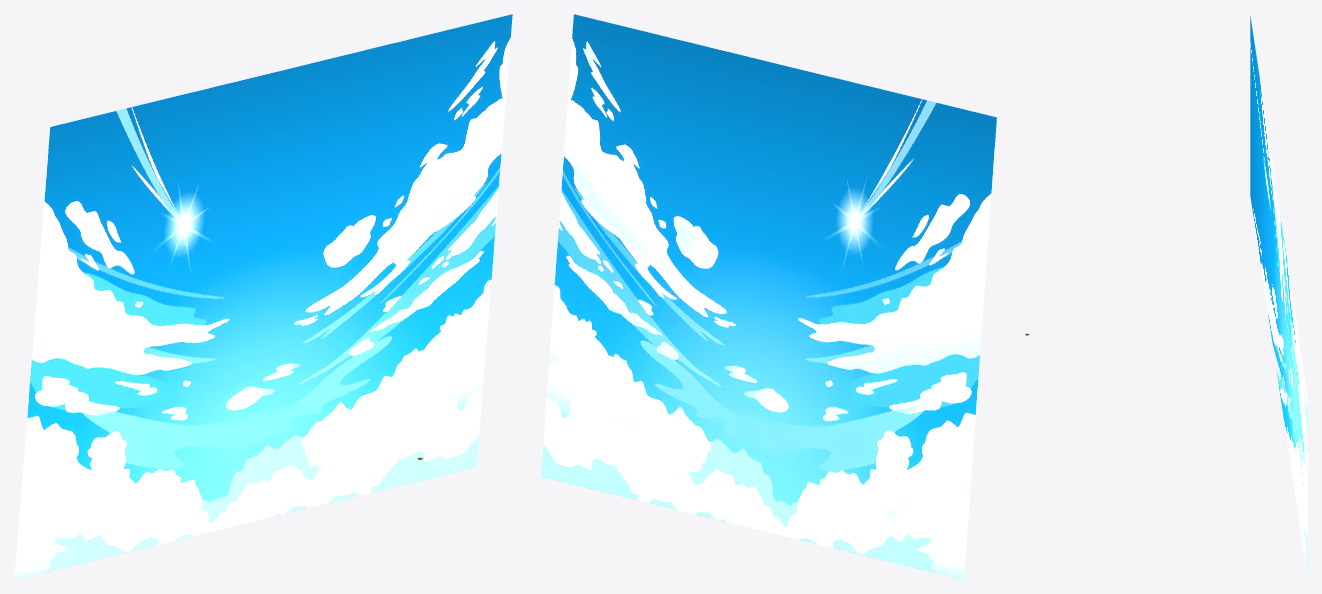
File: CellGames.glb
3 renders of one model, left to right at view 1: azimuth 30°, elevation 25°; view 2: azimuth 150°, elevation 25°; view 3: azimuth 270°, elevation 25°, orthographic. The views are drawn at different scales.
Visible parts, largest first — view 1: Plane.001; view 2: Plane.001; view 3: Plane.001.
Part boxes in pixels (<box>): Plane.001: <box>14,14,512,579</box>; Plane.001: <box>541,14,996,579</box>; Plane.001: <box>1250,16,1307,578</box>.
Size of the model in its own units: 81953 by 81208 by 54089.
26 materials, 26 textured.
